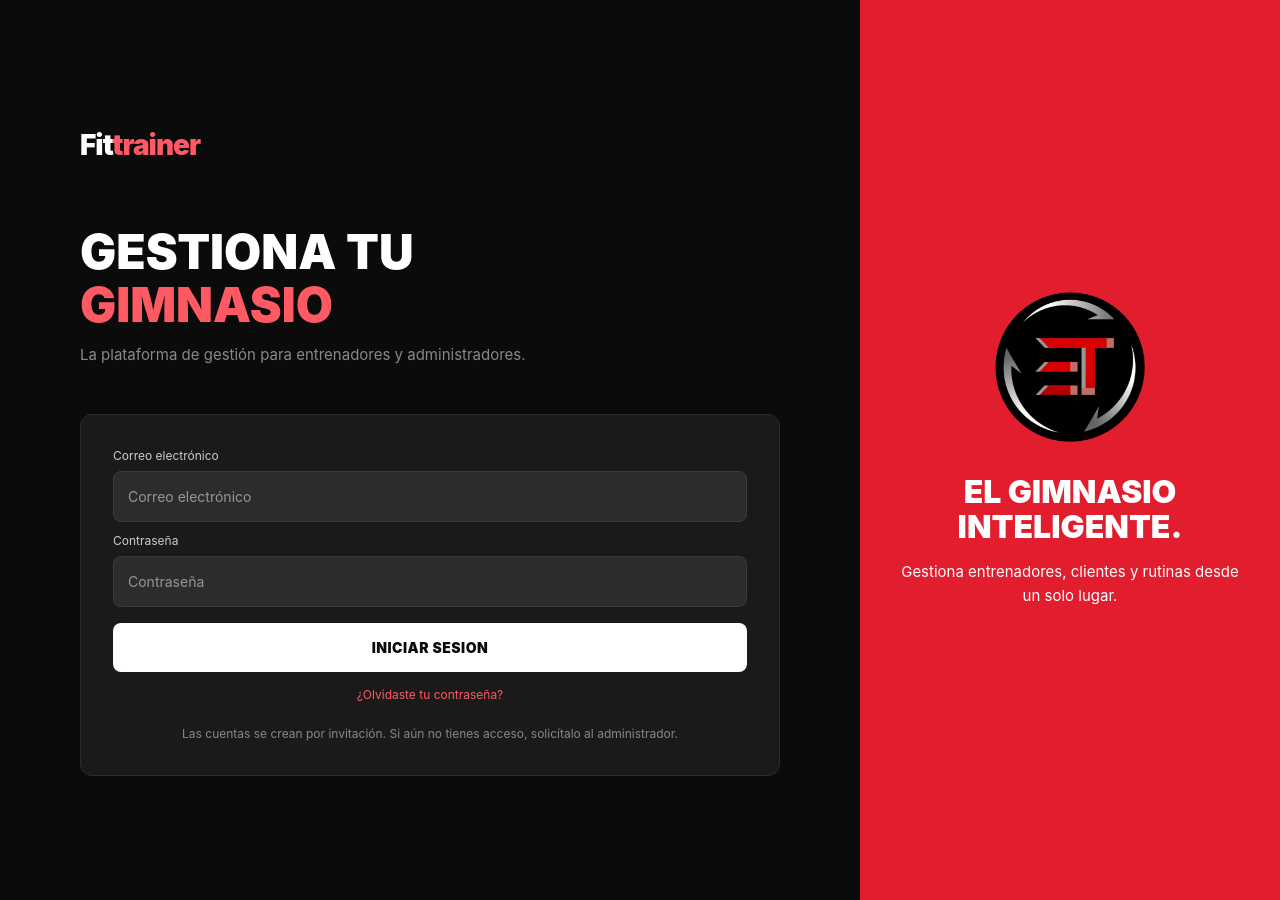
Test: Login › solicita el correo antes de recuperar la contraseña
Click the button "¿Olvidaste tu contraseña?": (430,695) [113,686,747,704]
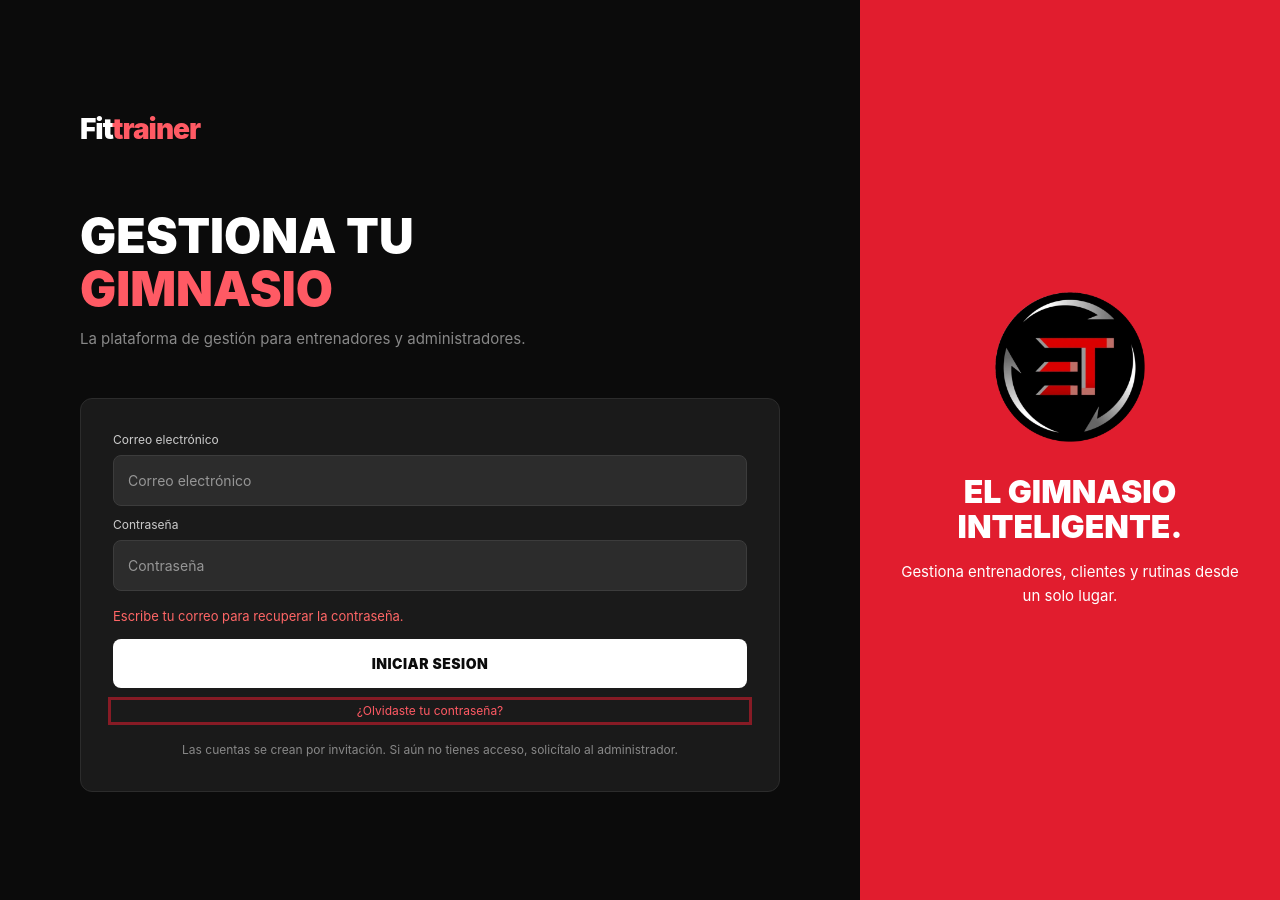
Result: the message shows "Escribe tu correo" at [113,608,404,624]
